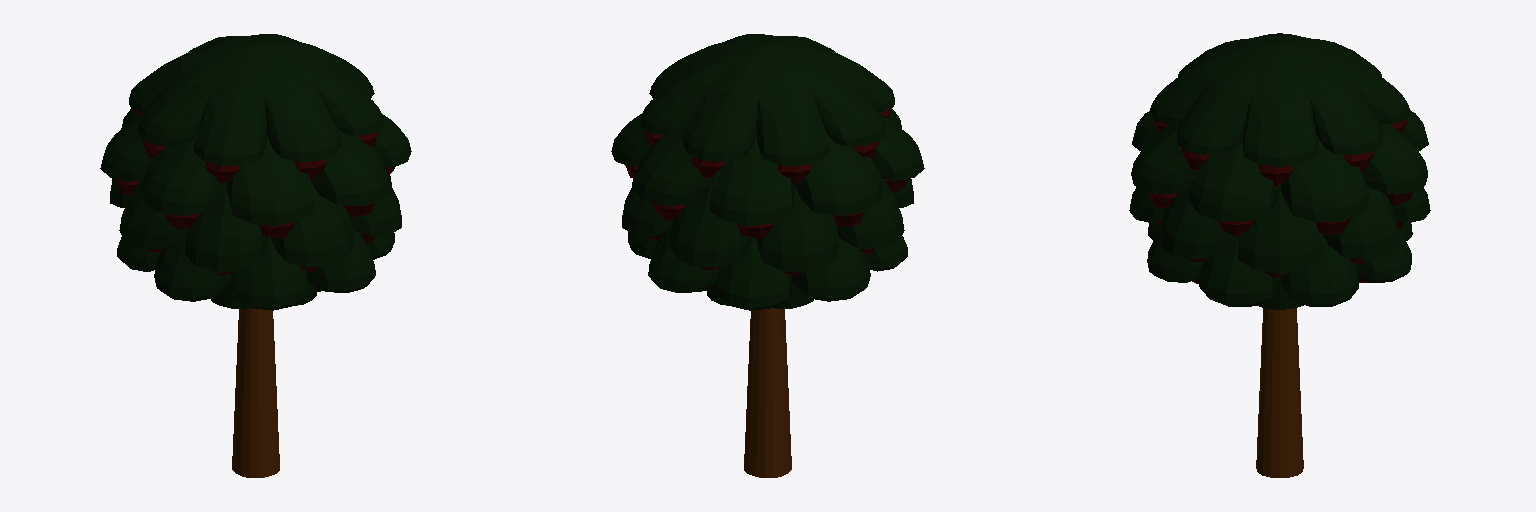
File: Tree_Fruit.obj
3 renders of one model, left to right at view 1: azimuth 30°, elevation 25°; view 2: azimuth 150°, elevation 25°; view 3: azimuth 270°, elevation 25°, orthographic.
Parts seen in each view (by area): view 1: Tree_Fruit_Cube.075; view 2: Tree_Fruit_Cube.075; view 3: Tree_Fruit_Cube.075.
Boxes of the visible parts, x1,y1,x2,y2 form: Tree_Fruit_Cube.075: [100, 34, 411, 477]; Tree_Fruit_Cube.075: [611, 34, 924, 477]; Tree_Fruit_Cube.075: [1129, 33, 1430, 477].
Bounding box in the file's own units: 5.53 × 8.63 × 5.55.